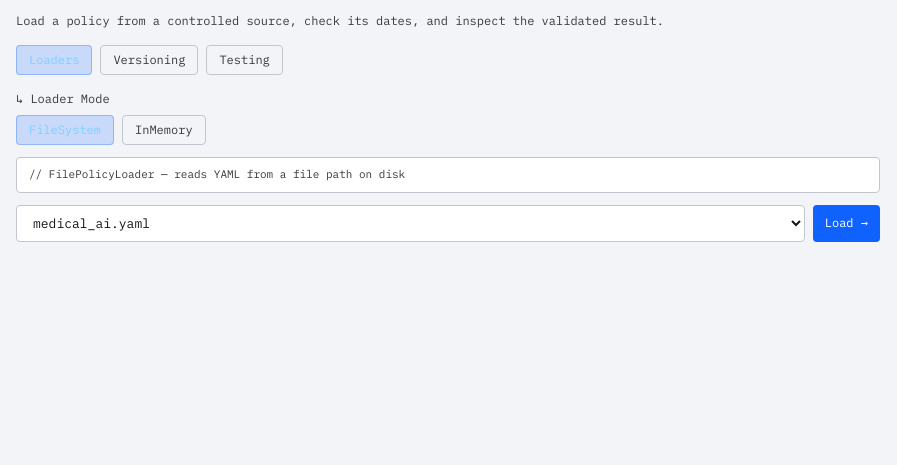
Test case: Lab5Loaders › gives every policy input an accessible name
Expected: the dropdown named "Policy file" is shown, [16, 205, 805, 242]
Click the button "InMemory" at (164, 130), box [122, 115, 206, 145]
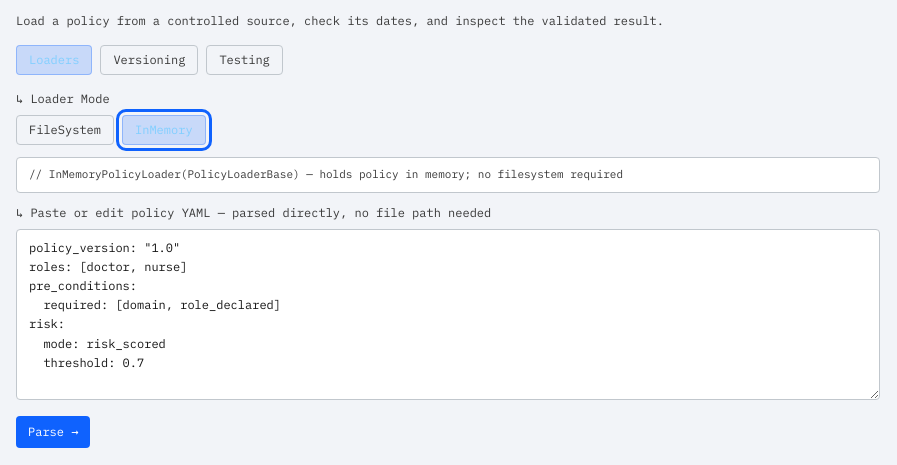
Result: the text box named "Policy YAML" is shown at [16, 229, 880, 400]
Click the button "Versioning" at (149, 60), box [100, 45, 198, 75]
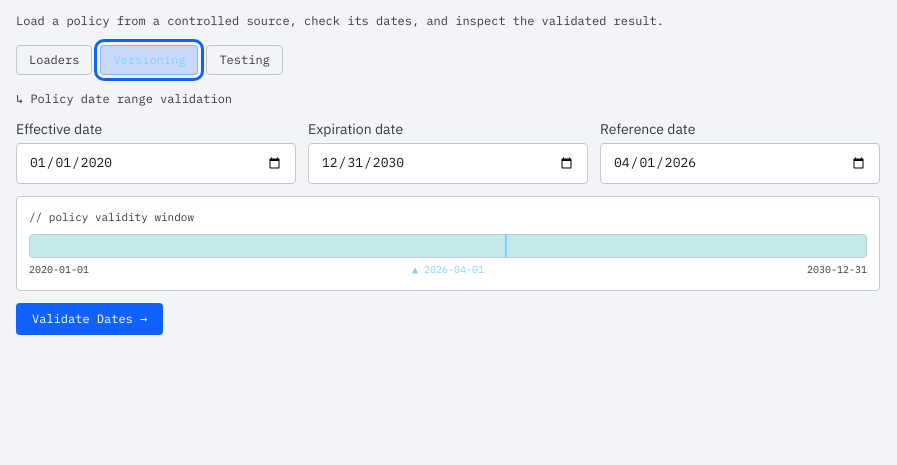
Result: the date field labelled "Effective date" is shown at [16, 143, 296, 184]
Result: the date field labelled "Expiration date" is shown at [308, 143, 588, 184]
Result: the date field labelled "Reference date" is shown at [600, 143, 880, 184]
Click the button "Testing" at (245, 60), box [206, 45, 283, 75]
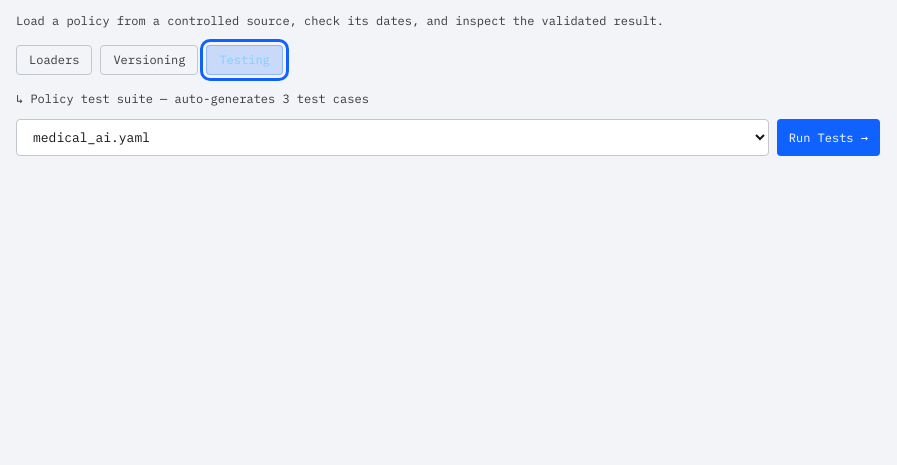
Result: the dropdown named "Policy test file" is shown at [16, 119, 769, 156]
